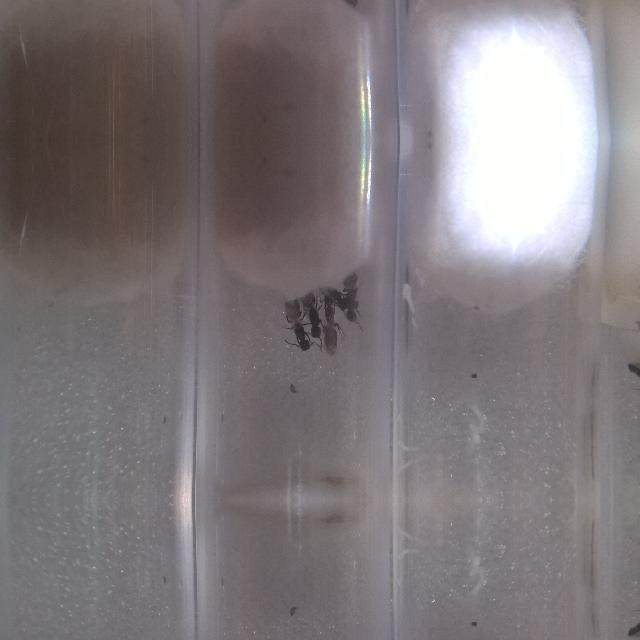Colobopsis: (273, 294, 319, 354), (332, 270, 372, 328), (299, 284, 327, 346), (317, 294, 343, 358)
